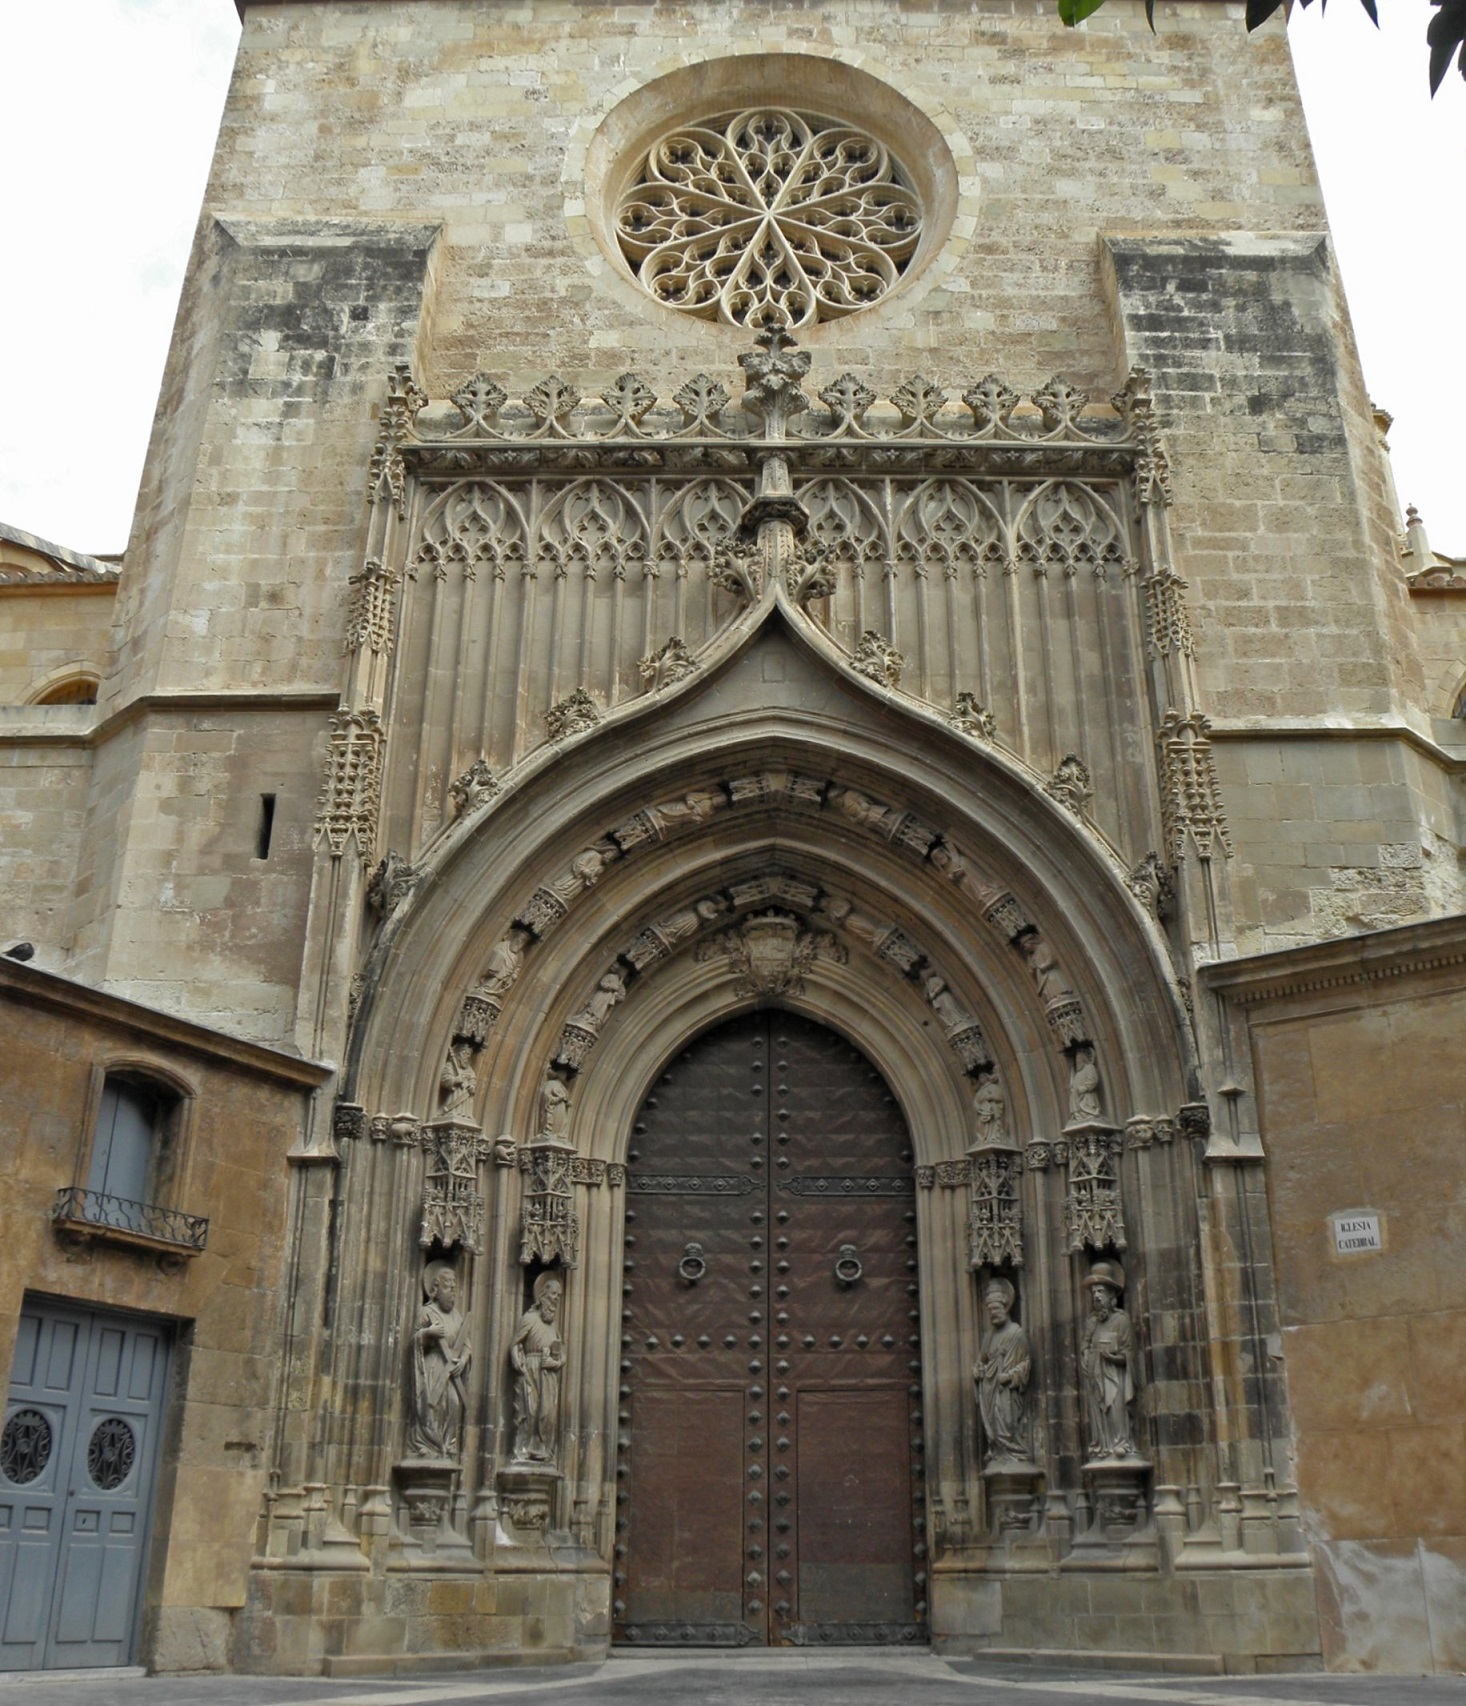arco-apuntado: (410, 730, 1141, 1121)
arco-conopial: (552, 574, 995, 747)
